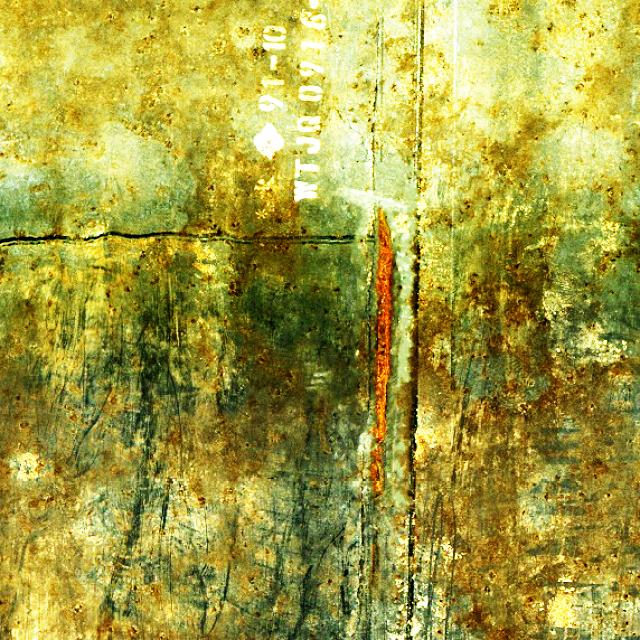Corrosion: (371, 208, 393, 495)
